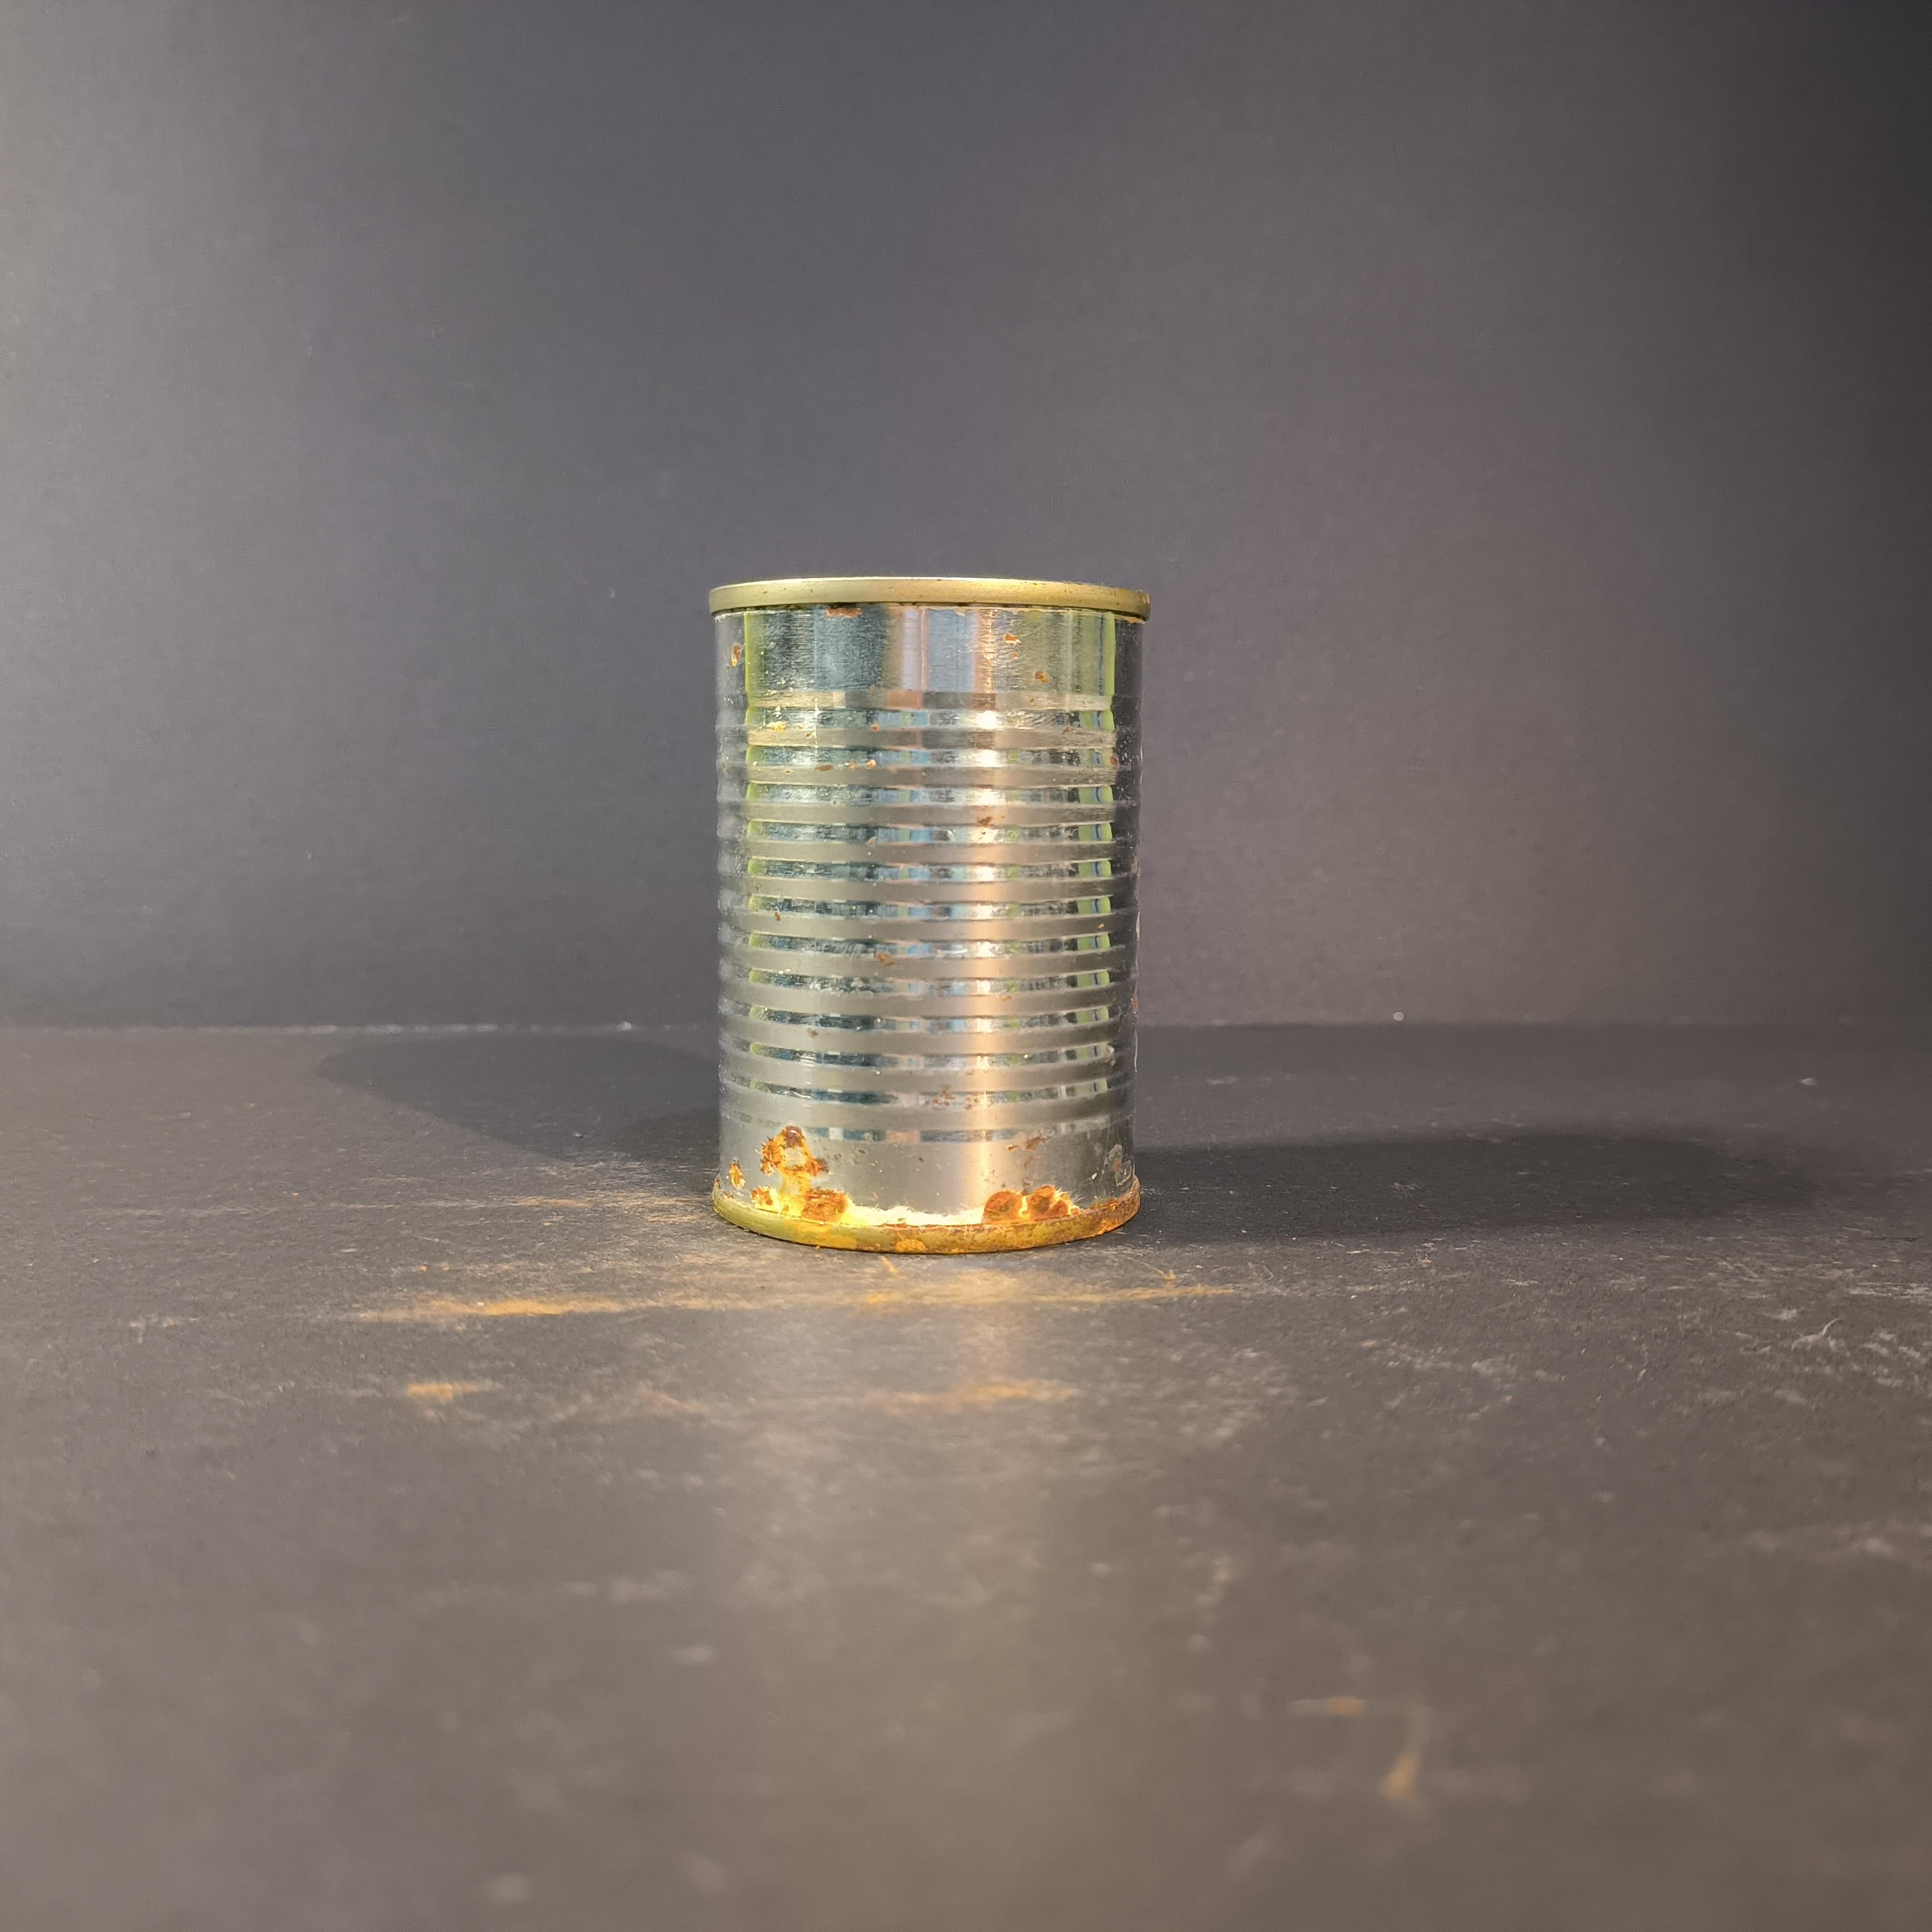Rusted: (695, 545, 1161, 1254)
